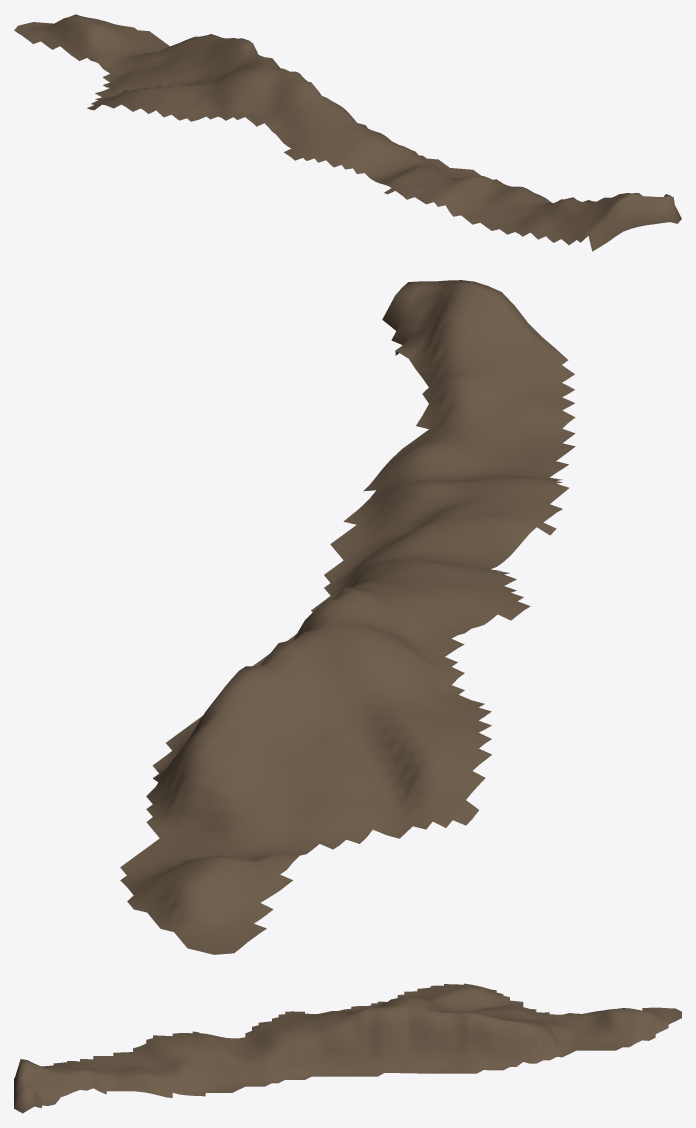
Rendered from VannaIsland02.fbx.
3 renders of one model, top to bottom at view 1: azimuth 30°, elevation 25°; view 2: azimuth 150°, elevation 25°; view 3: azimuth 270°, elevation 25°, orthographic. The views are drawn at different scales.
Visible parts, largest first — view 1: Vanna02Normalized; view 2: Vanna02Normalized; view 3: Vanna02Normalized.
Part boxes in pixels (x1=…): Vanna02Normalized: x1=14, y1=14, x2=681, y2=251; Vanna02Normalized: x1=120, y1=280, x2=575, y2=954; Vanna02Normalized: x1=14, y1=983, x2=681, y2=1113.
Bounding box in the file's own units: 9620 × 1558 × 20228.
